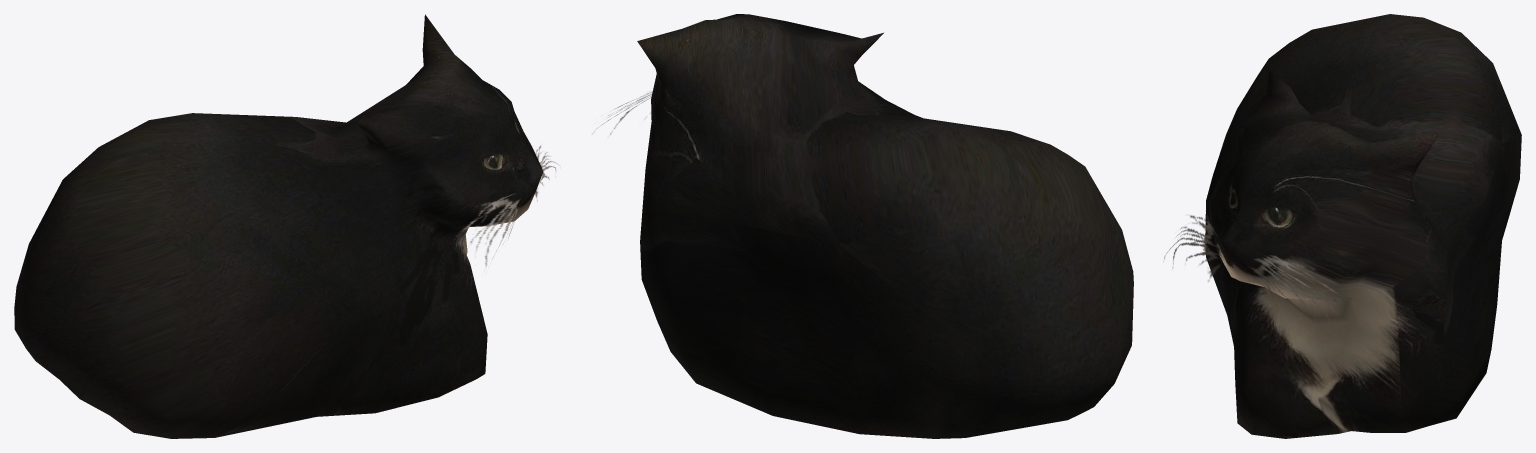
The model's file is maxwell.glb.
The picture shows the model from 3 angles, left to right: view 1: azimuth 30°, elevation 25°; view 2: azimuth 150°, elevation 25°; view 3: azimuth 270°, elevation 25°; orthographic projection. The views are drawn at different scales.
Visible parts, largest first — view 1: dingus; view 2: dingus; view 3: dingus.
Part boxes in pixels (box(x1,y1,x2,y2)): dingus: box(14, 14, 559, 438); dingus: box(592, 14, 1133, 438); dingus: box(1164, 14, 1521, 438).
Bounding box in the file's own units: 33.23 × 19.21 × 18.75.
Materials: 2 (2 with a texture image).
